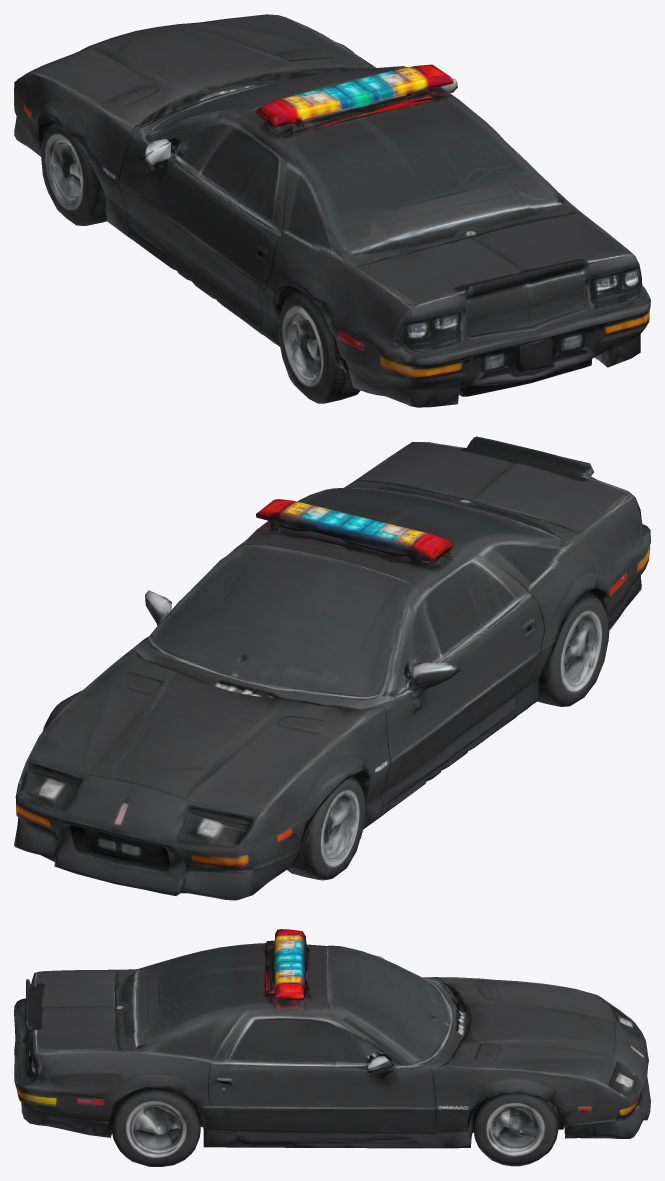
File: 90lar_camaro_polis_ar_0705112703_texture.glb
3 views of the same model, one above another, from view 1: azimuth 30°, elevation 25°; view 2: azimuth 150°, elevation 25°; view 3: azimuth 270°, elevation 25° (orthographic). The views are drawn at different scales.
Size of the model in its own units: 0.8517 by 0.5545 by 1.99.
Materials: 1 (1 with a texture image).
